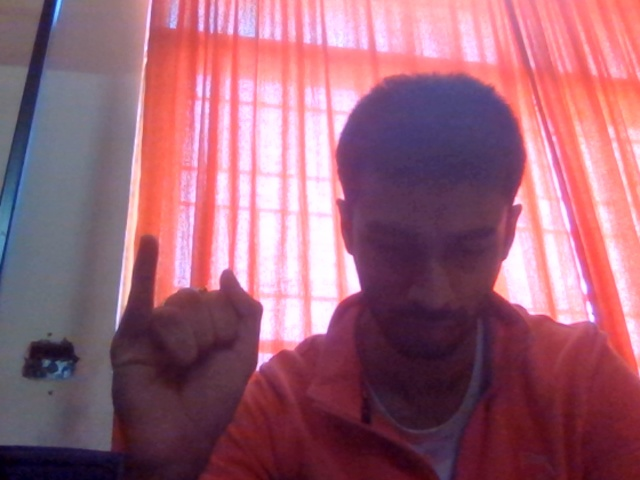I: (70, 197, 304, 477)
